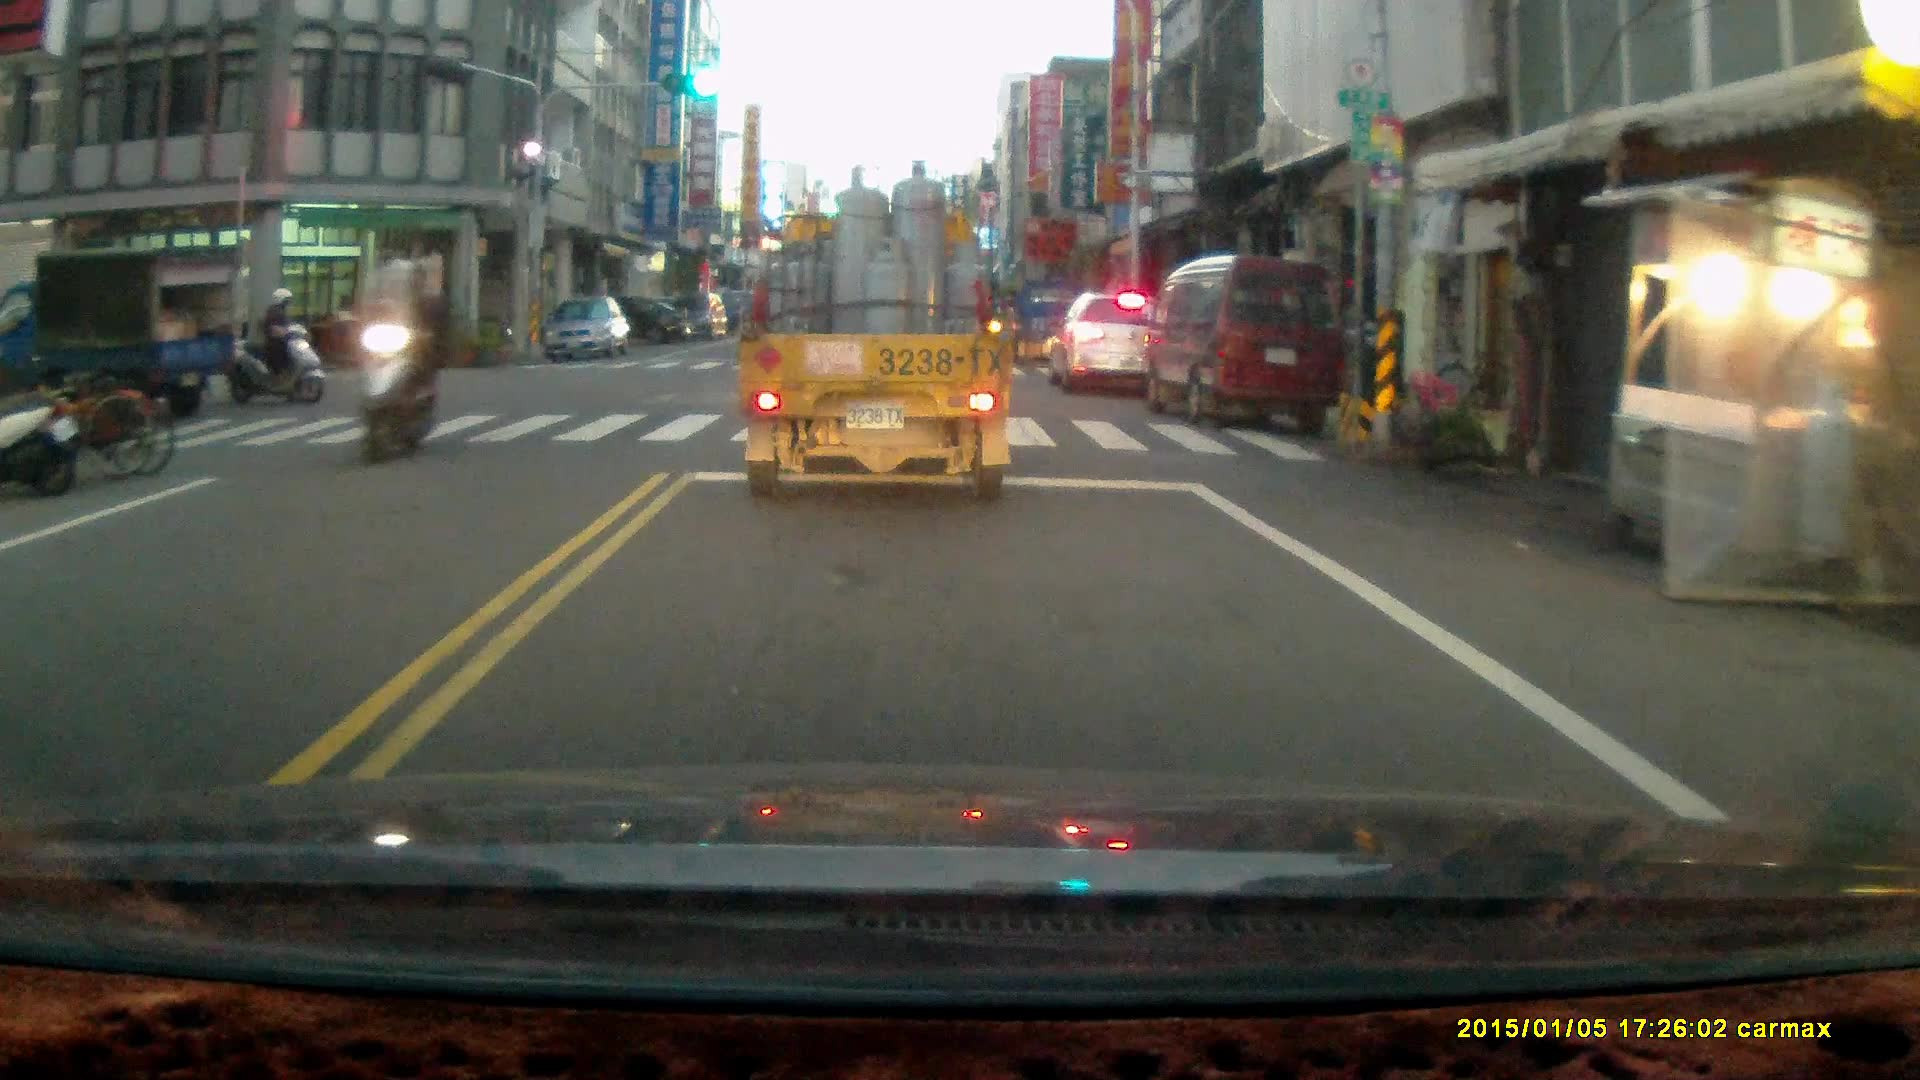rider: (353, 253, 452, 459), (224, 284, 326, 405)
vehicle: (741, 168, 1016, 506), (2, 247, 226, 424), (1142, 256, 1350, 431), (1044, 290, 1178, 401), (568, 299, 691, 357), (544, 296, 635, 361), (644, 292, 727, 340)
